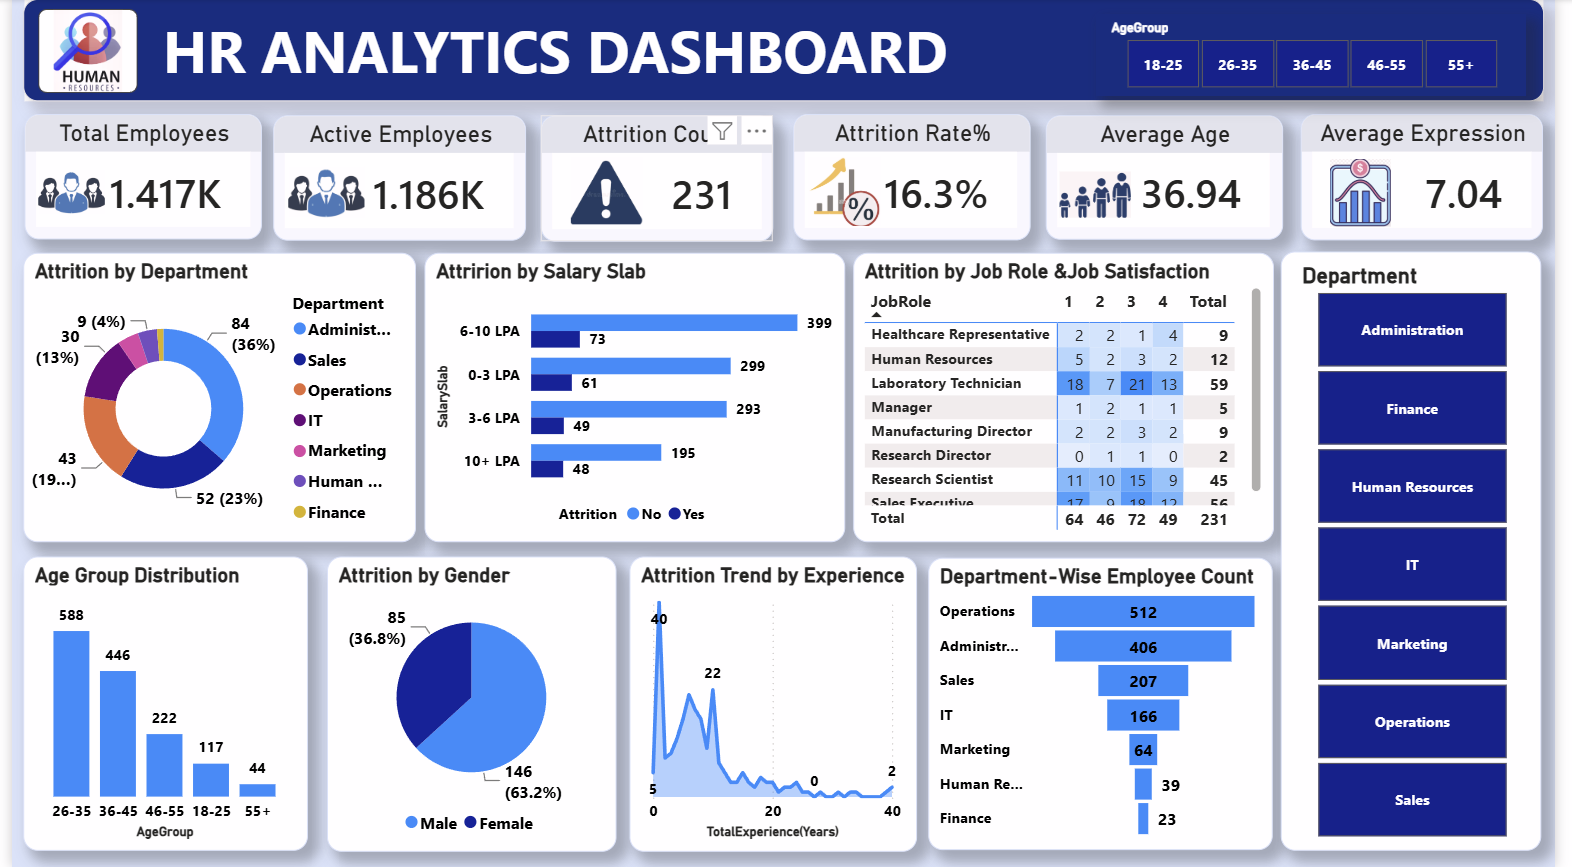

Layout of this report page (visuals, bound fields, positions):
{"tool":"powerbi","page":{"name":"Page 1","canvas":[1280,720],"ordinal":0},"visuals":[{"type":"textbox","box":[10,0,1259,85],"z":0},{"type":"textbox","box":[9.3,0,1260.5,84.9],"z":1000},{"type":"image","box":[22.1,8.1,82.6,69.8],"z":2000},{"type":"cardVisual","title":"Total Employees","fields":{"Data":["CountNonNull(HR_Analytics-4.EmpID)"]},"box":[10,95,197,104],"z":3000},{"type":"cardVisual","title":"Active Employees","fields":{"Data":["CountNonNull(HR_Analytics-4.EmployeeCount)"]},"box":[216.8,96.1,209.9,104.3],"z":4000},{"type":"cardVisual","title":"Attrition Count","fields":{"Data":["Sum(HR_Analytics-4.AttritionCount)"]},"box":[438.4,96.5,193,104.7],"z":5000},{"type":"cardVisual","title":"Attrition Rate%","fields":{"Data":["HR_Analytics-4.attrition rate%"]},"box":[647.7,95.3,196.5,104.7],"z":6000},{"type":"cardVisual","title":"Average Age","fields":{"Data":["Avg(HR_Analytics-4.Age)"]},"box":[857,96.5,196.5,103.5],"z":7000},{"type":"cardVisual","title":"Average Expression","fields":{"Data":["Avg(HR_Analytics-4.YearsatCompany)"]},"box":[1068.6,95.3,201.2,104.7],"z":8000},{"type":"image","box":[229.2,134.5,63.1,50.8],"z":8003},{"type":"image","box":[459.7,131.7,65.9,54.9],"z":8004},{"type":"image","box":[22,135.8,54.9,48],"z":8005},{"type":"image","box":[658.7,130.4,61.7,57.6],"z":8007},{"type":"image","box":[868.6,135.8,59,52.1],"z":8009},{"type":"image","box":[1086.8,133.1,61.7,56.3],"z":8010},{"type":"donutChart","title":"Attrition by Department","fields":{"Category":["HR_Analytics-4.Department"],"Y":["Sum(HR_Analytics-4.AttritionCount)"]},"box":[9.6,209.9,325.2,240.1],"z":8011},{"type":"clusteredBarChart","title":"Attririon by Salary Slab","fields":{"Category":["HR_Analytics-4.SalarySlab"],"Y":["CountNonNull(HR_Analytics-4.EmpID)"],"Series":["HR_Analytics-4.Attrition"]},"box":[341.7,209.9,348.5,240.1],"z":8012},{"type":"pivotTable","title":"Attrition by Job Role &Job Satisfaction","fields":{"Rows":["HR_Analytics-4.JobRole"],"Values":["Sum(HR_Analytics-4.AttritionCount)"],"Columns":["HR_Analytics-4.JobSatisfaction"]},"box":[697,209.9,348.5,240.1],"z":8013},{"type":"columnChart","title":"Age Group Distribution","fields":{"Category":["HR_Analytics-4.AgeGroup"],"Y":["Sum(HR_Analytics-4.EmployeeCount)"]},"box":[9.6,462.4,236,244.3],"z":8014},{"type":"pieChart","title":"Attrition by Gender","fields":{"Category":["HR_Analytics-4.Gender"],"Y":["Sum(HR_Analytics-4.AttritionCount)"]},"box":[260.9,462,240.2,244.6],"z":8015},{"type":"areaChart","title":"Attrition Trend by Experience","fields":{"Category":["HR_Analytics-4.TotalExperience(Years)"],"Y2":["Sum(HR_Analytics-4.AttritionCount)"]},"box":[512,462,238,244.6],"z":8016},{"type":"funnel","title":"Department-Wise Employee Count","fields":{"Category":["HR_Analytics-4.Department"],"Y":["CountNonNull(HR_Analytics-4.EmpID)"]},"box":[759.8,463,285.9,242.4],"z":8017},{"type":"slicer","fields":{"Values":["HR_Analytics-4.AgeGroup"]},"box":[898,12,357,68],"z":8018},{"type":"slicer","fields":{"Values":["HR_Analytics-4.Department"]},"box":[1052.2,209.8,216.3,496.7],"z":8019}]}

Visuals, with their boxes in screenshot pixels (x1, y1, x2, y2), scaled from the page's 1280x720 canvas onto the 1572x867 screenshot:
textbox: l=12, t=0, r=1558, b=102
textbox: l=11, t=0, r=1559, b=102
image: l=27, t=10, r=129, b=94
"Total Employees" cardVisual: l=12, t=114, r=254, b=240
"Active Employees" cardVisual: l=266, t=116, r=524, b=241
"Attrition Count" cardVisual: l=538, t=116, r=775, b=242
"Attrition Rate%" cardVisual: l=795, t=115, r=1037, b=241
"Average Age" cardVisual: l=1053, t=116, r=1294, b=241
"Average Expression" cardVisual: l=1312, t=115, r=1559, b=241
image: l=281, t=162, r=359, b=223
image: l=565, t=159, r=646, b=225
image: l=27, t=164, r=94, b=221
image: l=809, t=157, r=885, b=226
image: l=1067, t=164, r=1139, b=226
image: l=1335, t=160, r=1411, b=228
"Attrition by Department" donutChart: l=12, t=253, r=411, b=542
"Attririon by Salary Slab" clusteredBarChart: l=420, t=253, r=848, b=542
"Attrition by Job Role &Job Satisfaction" pivotTable: l=856, t=253, r=1284, b=542
"Age Group Distribution" columnChart: l=12, t=557, r=302, b=851
"Attrition by Gender" pieChart: l=320, t=556, r=615, b=851
"Attrition Trend by Experience" areaChart: l=629, t=556, r=921, b=851
"Department-Wise Employee Count" funnel: l=933, t=558, r=1284, b=849
slicer - HR_Analytics-4.AgeGroup: l=1103, t=14, r=1541, b=96
slicer - HR_Analytics-4.Department: l=1292, t=253, r=1558, b=851
